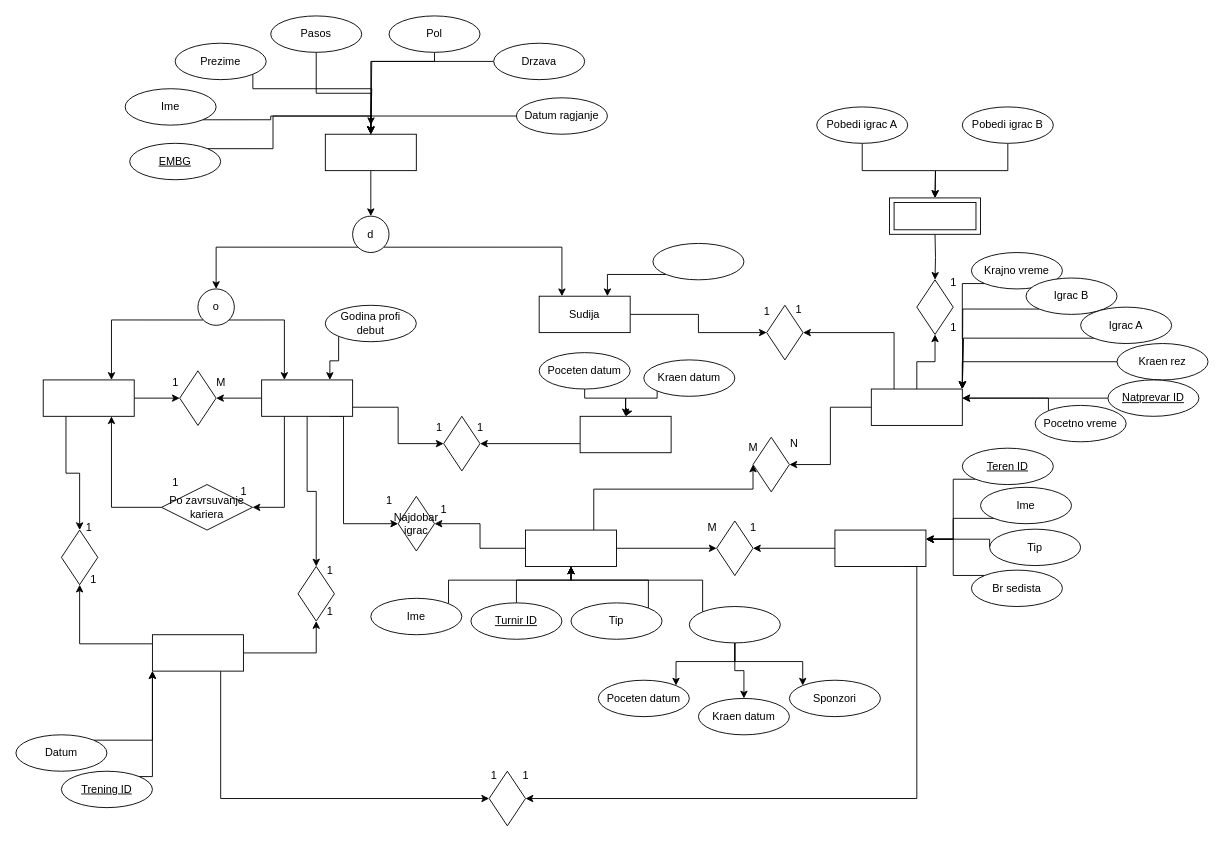
Some shapes in this 1224 by 842 pixel diagram are drawn without their labels. Each missing label, with the centre of its shape:
Godina: pixel 734 624
Godini iskustvo: pixel 698 261
H2H: pixel 935 215
Igrac: pixel 307 397
Natprevar: pixel 916 406
Rang Mesto: pixel 625 434
Teren: pixel 880 547
Trener: pixel 88 397
Trening: pixel 197 652
Turnir: pixel 571 547
Ucesnik: pixel 370 152
